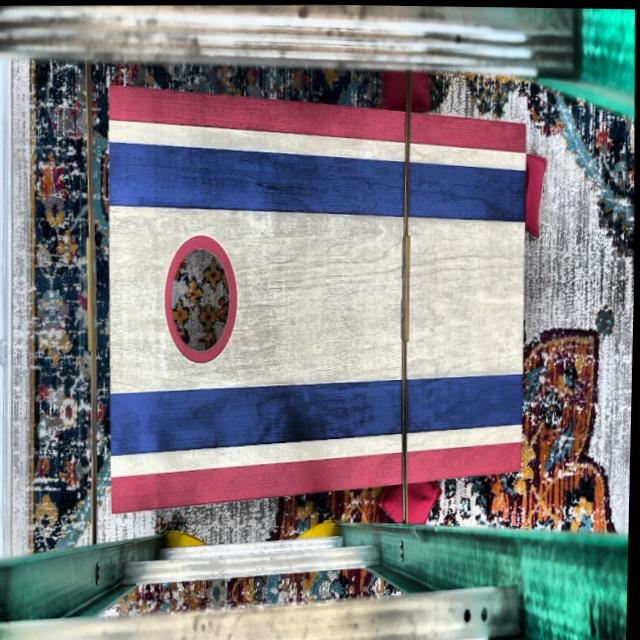board: (108, 117, 528, 477)
hole: (163, 232, 241, 364)
red-bean-bag: (378, 482, 444, 523), (381, 69, 432, 109), (525, 152, 547, 236)
